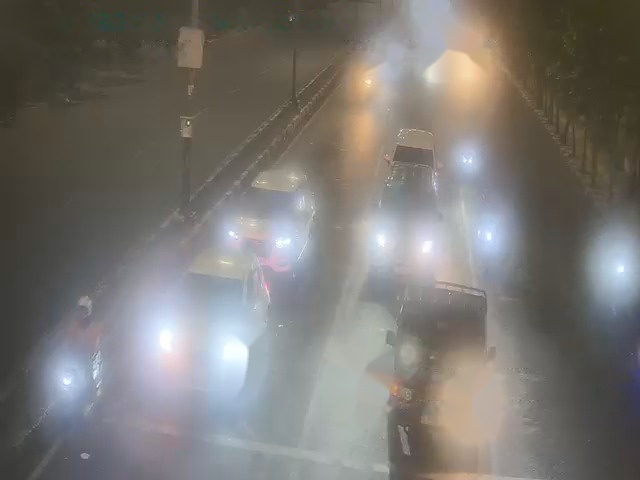Mobil: (146, 244, 271, 392), (393, 273, 491, 437), (369, 156, 441, 273), (234, 161, 304, 264), (382, 118, 434, 167), (460, 151, 474, 171)
Motor: (53, 369, 86, 419), (476, 222, 503, 261), (610, 259, 630, 300)
